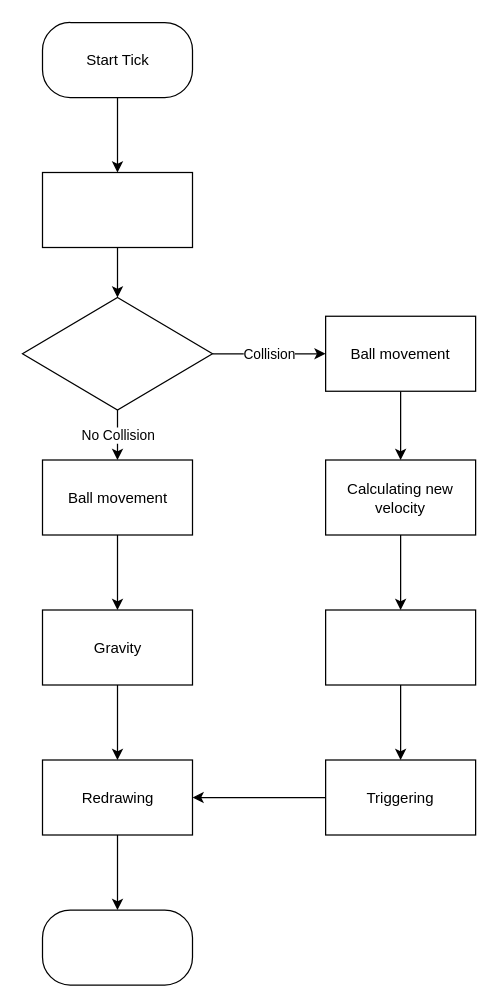
This 498x1006 diagram has some shape labels left out. Each missing label, with the centre of its shape:
Collision detection: point (116, 209)
Collision Resolution: point (116, 353)
End Tick: point (116, 947)
Friction: point (400, 647)
